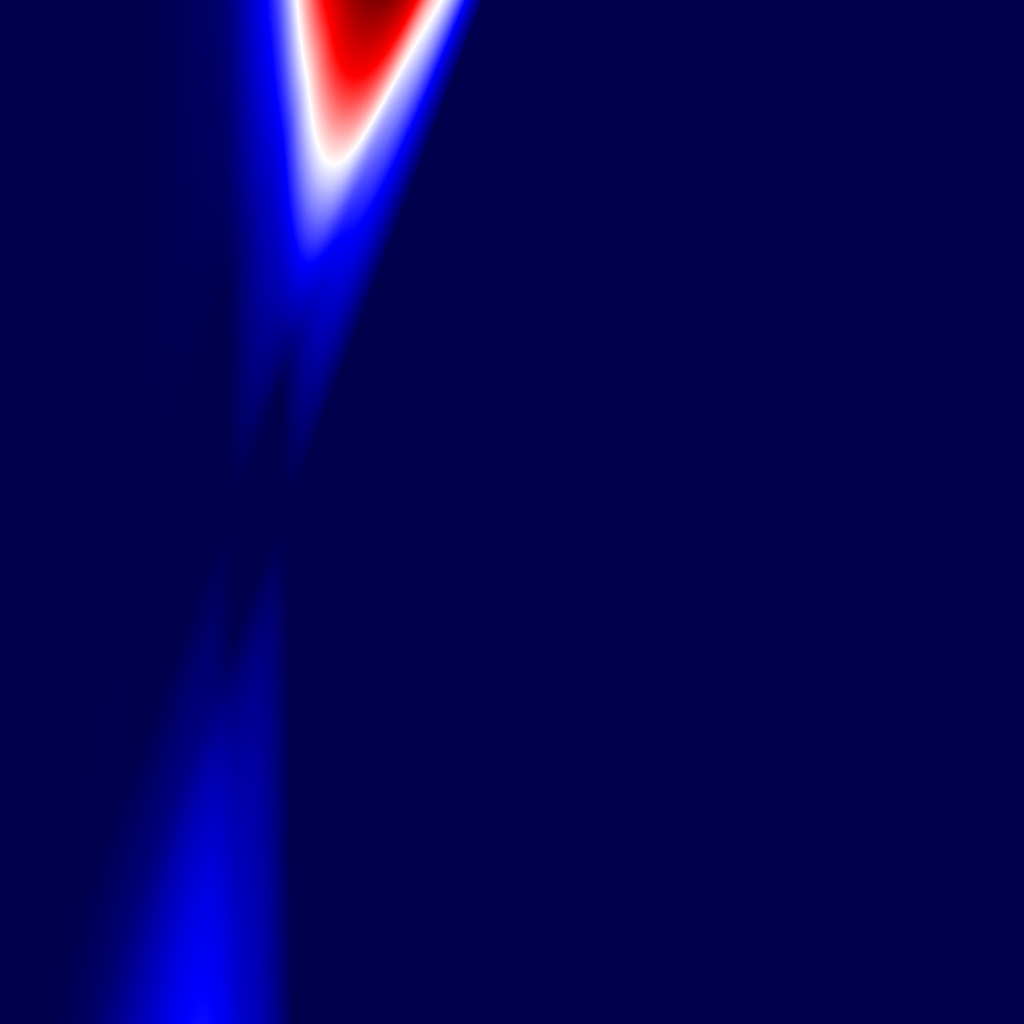diamond: (144, 284, 233, 740), (234, 373, 288, 651)
